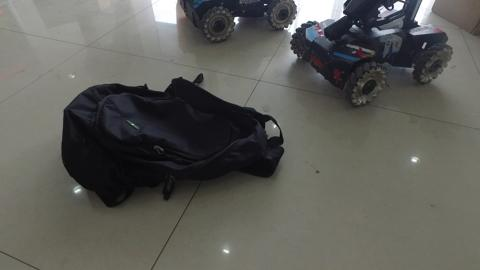bag: (60, 75, 292, 207)
chariot: (295, 2, 454, 106), (175, 1, 295, 42)
